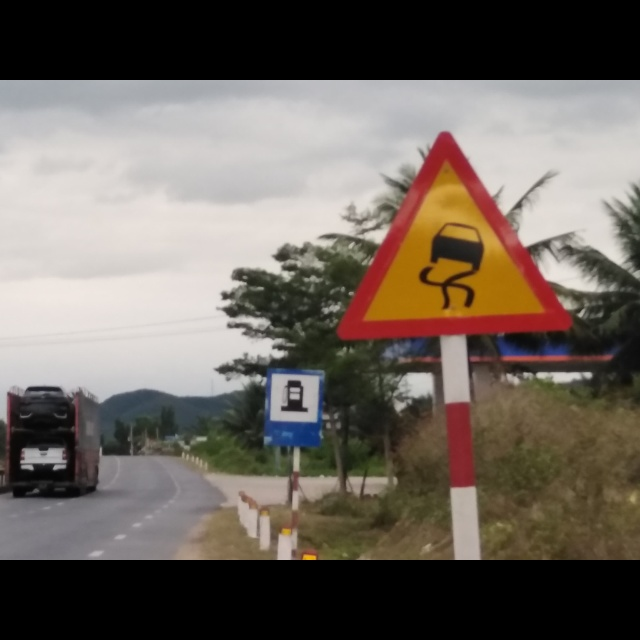Đường trơn trượt: (331, 128, 578, 343)
